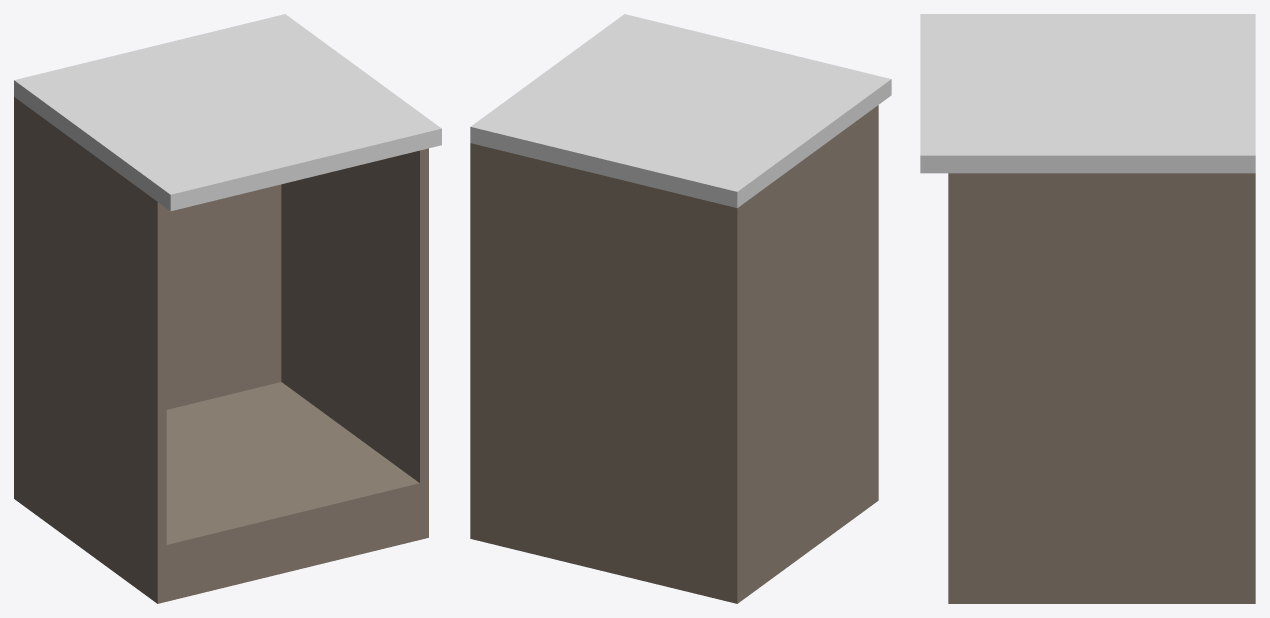
The model's file is Kitchen1_C5_01.fbx.
3 views of the same model, side by side, from view 1: azimuth 30°, elevation 25°; view 2: azimuth 150°, elevation 25°; view 3: azimuth 270°, elevation 25° (orthographic). The views are drawn at different scales.
Visible parts, largest first — view 1: Kitchen1_C5_01; view 2: Kitchen1_C5_01; view 3: Kitchen1_C5_01.
Boxes of the visible parts, left/top/right/bottom form: Kitchen1_C5_01: left=14, top=14, right=441, bottom=603; Kitchen1_C5_01: left=470, top=14, right=891, bottom=603; Kitchen1_C5_01: left=920, top=14, right=1255, bottom=603.
Size of the model in its own units: 60 by 88.5 by 60.
